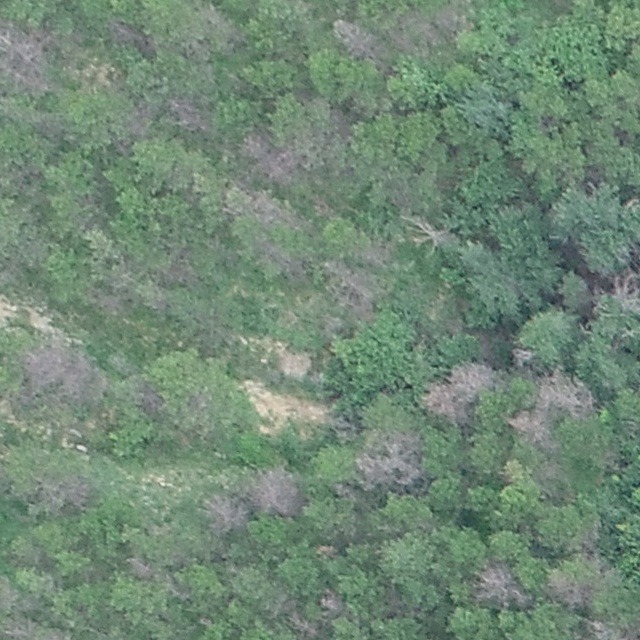unhealthy: (422, 358, 493, 425), (354, 428, 424, 491), (0, 22, 50, 92), (324, 261, 379, 321), (537, 369, 598, 419), (248, 467, 307, 517), (472, 559, 528, 609), (236, 189, 300, 230), (197, 4, 247, 54), (255, 238, 309, 282), (34, 471, 91, 512), (61, 352, 105, 403), (332, 18, 382, 62), (21, 343, 67, 389), (507, 407, 556, 448), (202, 491, 249, 533), (398, 211, 448, 250), (121, 372, 165, 416), (543, 569, 588, 610), (165, 94, 210, 133), (158, 246, 198, 288), (262, 147, 302, 185), (609, 268, 639, 315), (432, 2, 471, 35), (352, 237, 396, 266), (123, 101, 157, 138), (583, 618, 640, 640), (0, 573, 28, 615), (406, 16, 442, 48), (0, 616, 50, 639), (105, 19, 146, 47), (237, 128, 270, 160), (288, 612, 323, 639), (124, 555, 155, 581), (388, 28, 415, 54), (318, 589, 345, 614)
